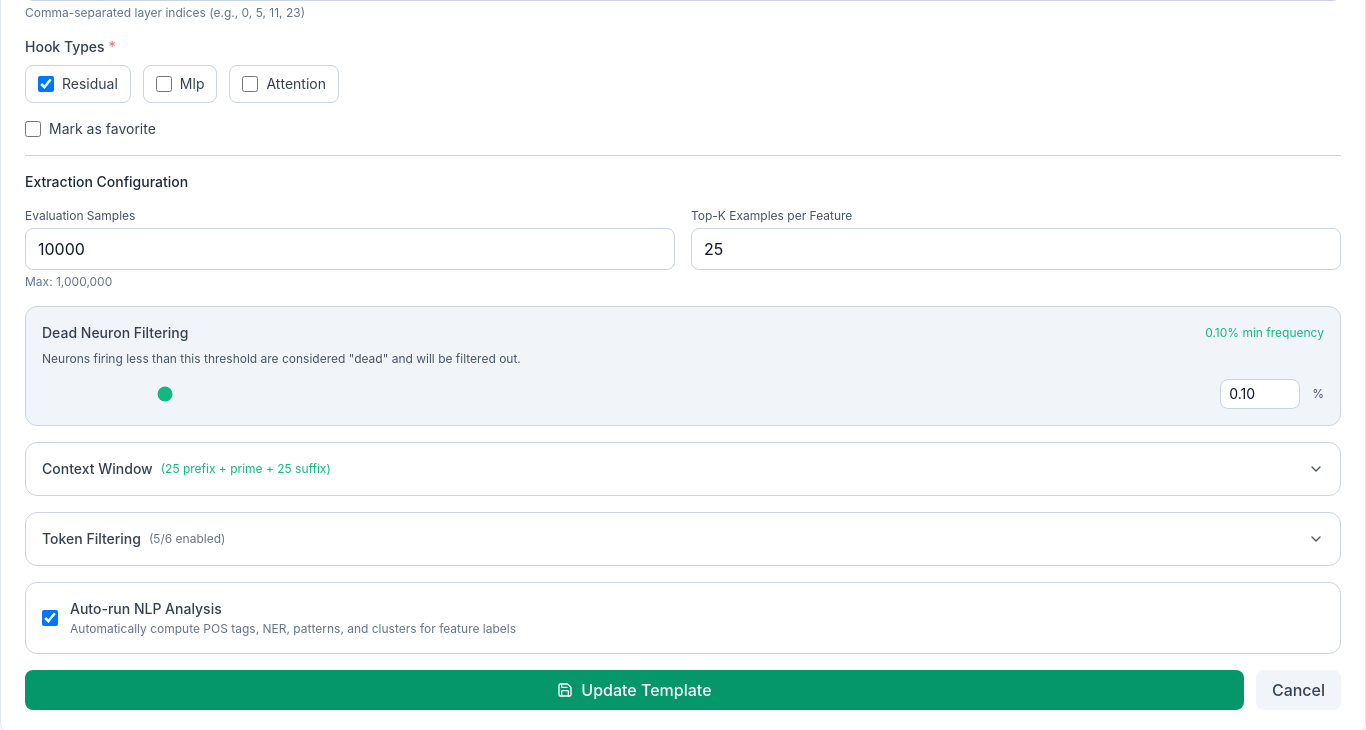
the extraction template micro-batch control › is present and shows the stored value
(page scrolled)
Click the button "Context Window (25 prefix + prime + 25 suffix)" at (97, 468), box [42,459,1324,479]
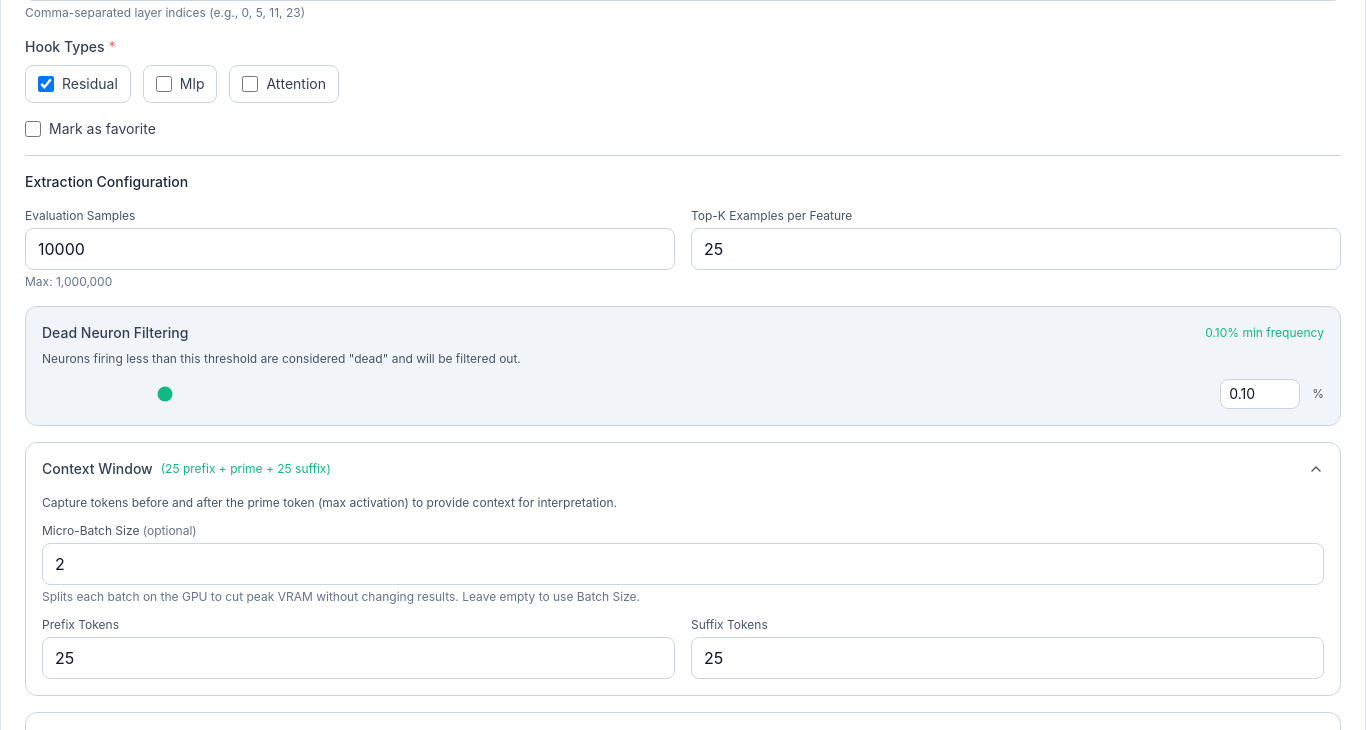
expect the number field labelled "Micro-Batch Size (optional)" holds "2": met, box [42,543,1324,585]
